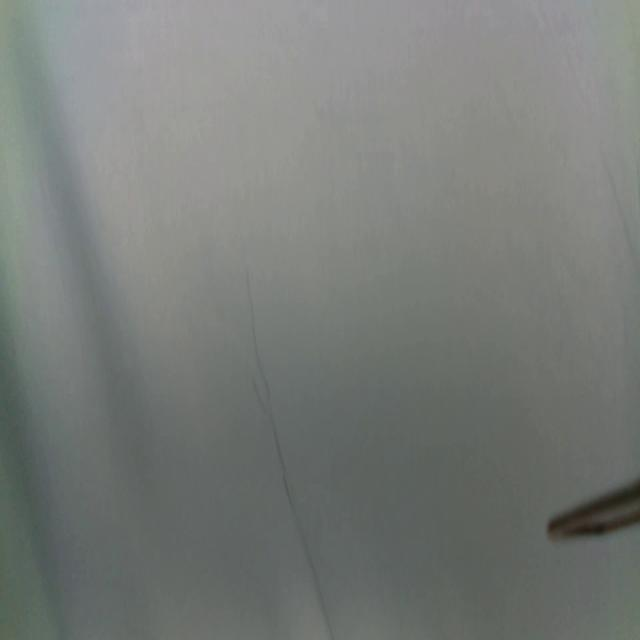crease: (246, 271, 335, 640)
